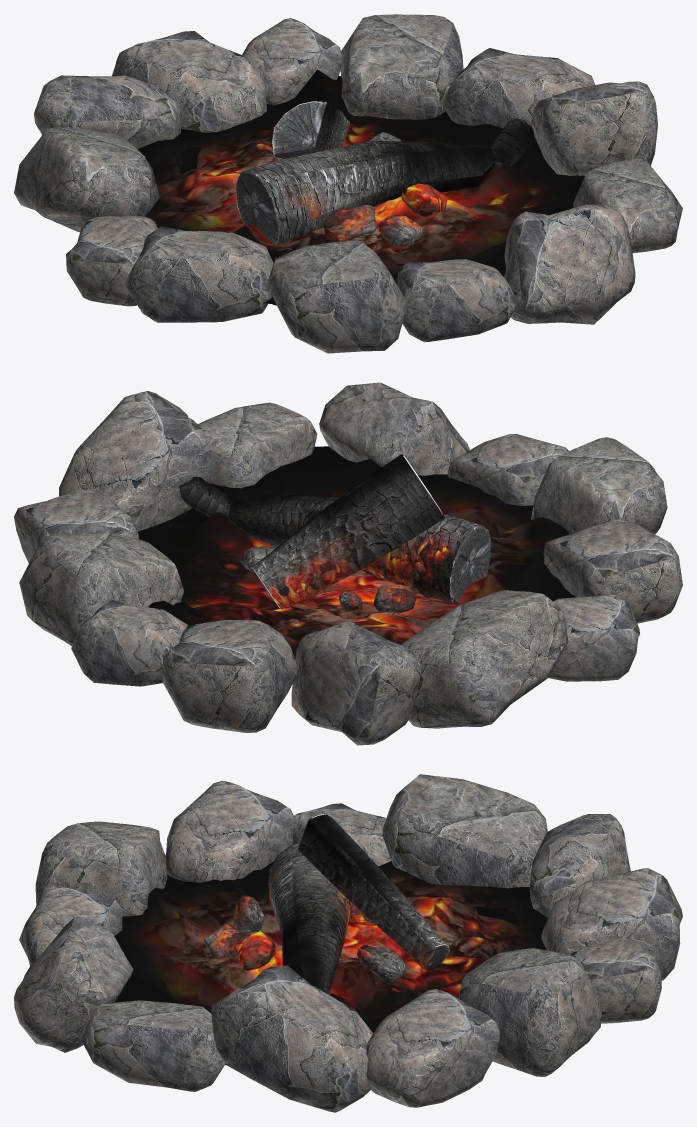
File: camp_fire.glb
3 renders of one model, top to bottom at view 1: azimuth 30°, elevation 25°; view 2: azimuth 150°, elevation 25°; view 3: azimuth 270°, elevation 25°, orthographic. The views are drawn at different scales.
Visible parts, largest first — view 1: Object_4, Object_5, Object_6, Object_7; view 2: Object_4, Object_5, Object_6, Object_7; view 3: Object_4, Object_5, Object_6.
Part boxes in pixels (<box>): Object_4: <box>14,14,682,353</box>; Object_5: <box>137,69,584,305</box>; Object_6: <box>244,101,533,246</box>; Object_7: <box>235,102,326,244</box>; Object_4: <box>14,382,682,745</box>; Object_5: <box>138,446,575,658</box>; Object_6: <box>179,454,482,612</box>; Object_7: <box>255,525,491,607</box>; Object_4: <box>14,774,682,1112</box>; Object_5: <box>114,860,607,1065</box>; Object_6: <box>204,814,448,995</box>.
Size of the model in its own units: 6.34 by 1.75 by 6.4.
Materials: 5 (4 with a texture image).
